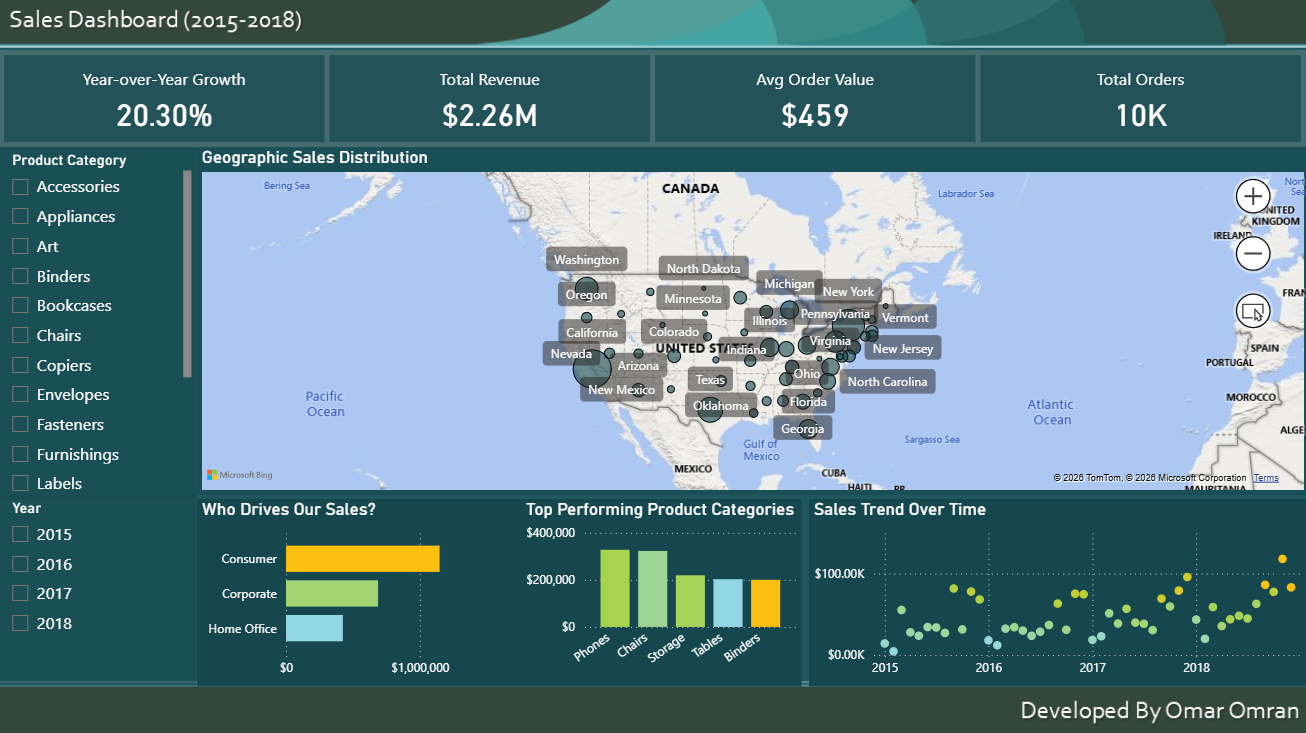

The dashboard page shown, as its layout file describes it:
{"tool":"powerbi","page":{"name":"Page 1","canvas":[1280,720],"ordinal":0},"visuals":[{"type":"card","title":"Total Sales","fields":{"Values":["Sum(train (2).Sales)"]},"box":[0,0,205.6,150],"z":0},{"type":"lineChart","title":"Monthly Sales Trend (2015–2018)","fields":{"Y":["Sum(train (2).Sales)"],"Category":["train (2).Order Date.Variation.Date Hierarchy.Year","train (2).Order Date.Variation.Date Hierarchy.Month"]},"box":[777.6,474.1,502.4,245.9],"z":1000},{"type":"barChart","title":"Total Sales by Segment","fields":{"Category":["train (2).Segment"],"Y":["Sum(train (2).Sales)"]},"box":[193.2,474.1,317.1,245.9],"z":2000},{"type":"map","title":"Sales by U.S. State & Region","fields":{"Category":["train (2).State"],"Size":["Sum(train (2).Sales)"]},"box":[214.6,113.2,1065.4,361],"z":3000},{"type":"slicer","fields":{"Values":["train (2).Sub-Category"]},"box":[0,150.2,214.6,323.9],"z":4000},{"type":"slicer","fields":{"Values":["train (2).Order Date.Variation.Date Hierarchy.Year"]},"box":[0,487.8,193.2,232.2],"z":5000},{"type":"textbox","box":[0,0,204.9,122],"z":6000},{"type":"columnChart","fields":{"Category":["train (2).Sub-Category"],"Y":["Sum(train (2).Sales)"]},"box":[510.2,474.1,267.3,245.9],"z":7000},{"type":"card","fields":{"Values":["train (2).YoY Growth %"]},"box":[286,0,286.9,113.6],"z":8000},{"type":"card","fields":{"Values":["train (2).Avg Order Value"]},"box":[572.9,0,319.3,113.6],"z":9000},{"type":"card","title":"Total Sales","fields":{"Values":["Sum(train (2).Sales)"]},"box":[892.2,0,387.8,113.6],"z":9001}]}

Visuals, with their boxes in screenshot pixels (x1, y1, x2, y2), scaled from the page's 1280x720 canvas onto the 1306x733 screenshot:
"Total Sales" card: crop(0, 0, 210, 153)
"Monthly Sales Trend (2015–2018)" lineChart: crop(793, 483, 1305, 732)
"Total Sales by Segment" barChart: crop(197, 483, 521, 732)
"Sales by U.S. State & Region" map: crop(219, 115, 1305, 483)
slicer - train (2).Sub-Category: crop(0, 153, 219, 483)
slicer - train (2).Order Date.Variation.Date Hierarchy.Year: crop(0, 497, 197, 732)
textbox: crop(0, 0, 209, 124)
columnChart - train (2).Sub-Category x Sum(train (2).Sales): crop(521, 483, 793, 732)
card - train (2).YoY Growth %: crop(292, 0, 585, 116)
card - train (2).Avg Order Value: crop(585, 0, 910, 116)
"Total Sales" card: crop(910, 0, 1305, 116)
